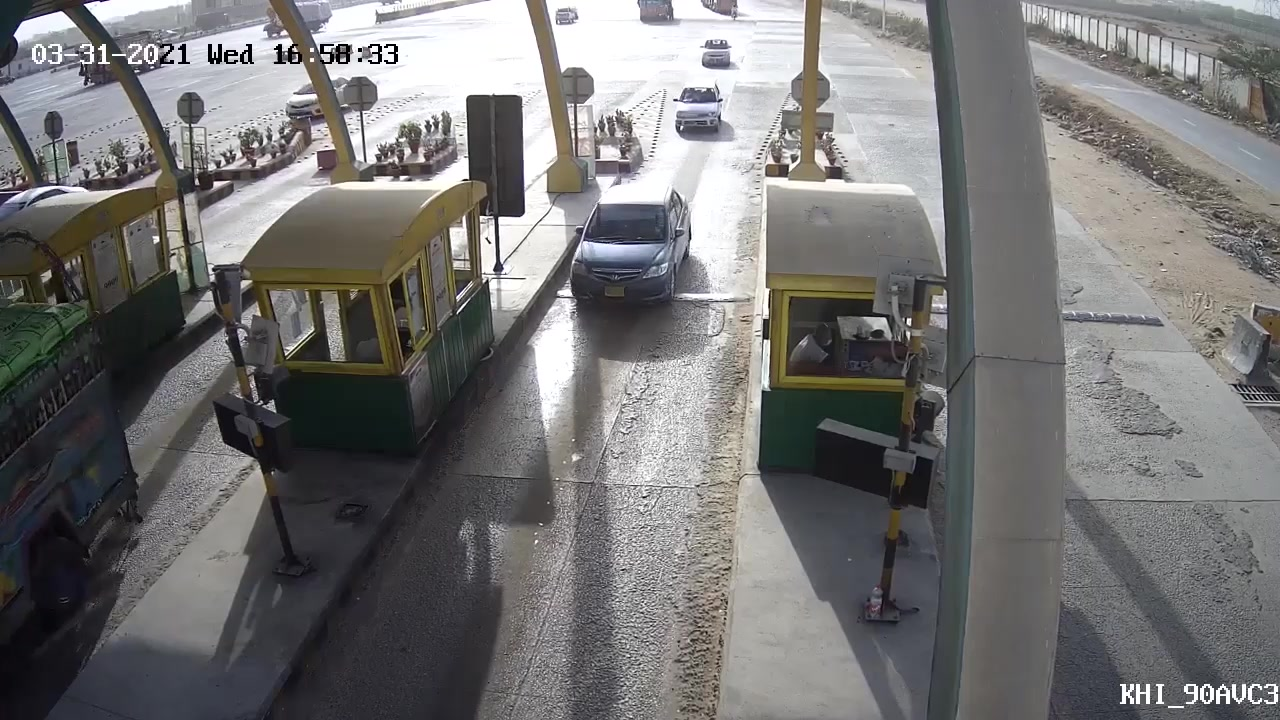F1: (559, 177, 700, 314), (669, 81, 729, 134), (694, 31, 743, 69)
